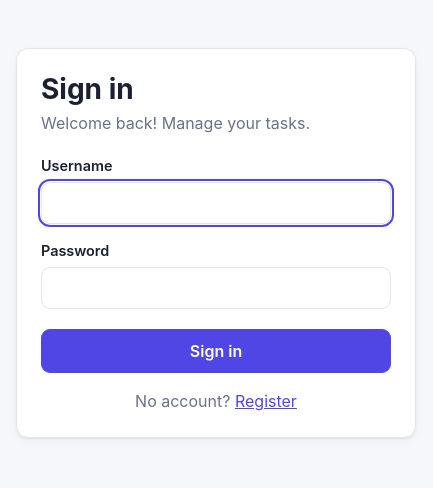
Test: App › validates the login form before sending a request
Click the button "Sign in" at (216, 351), box [41,329,391,373]
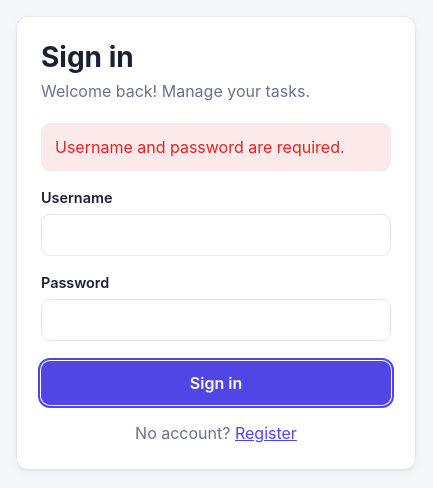
Expected: the message reads "Username and password are required.", [55,137,344,157]
